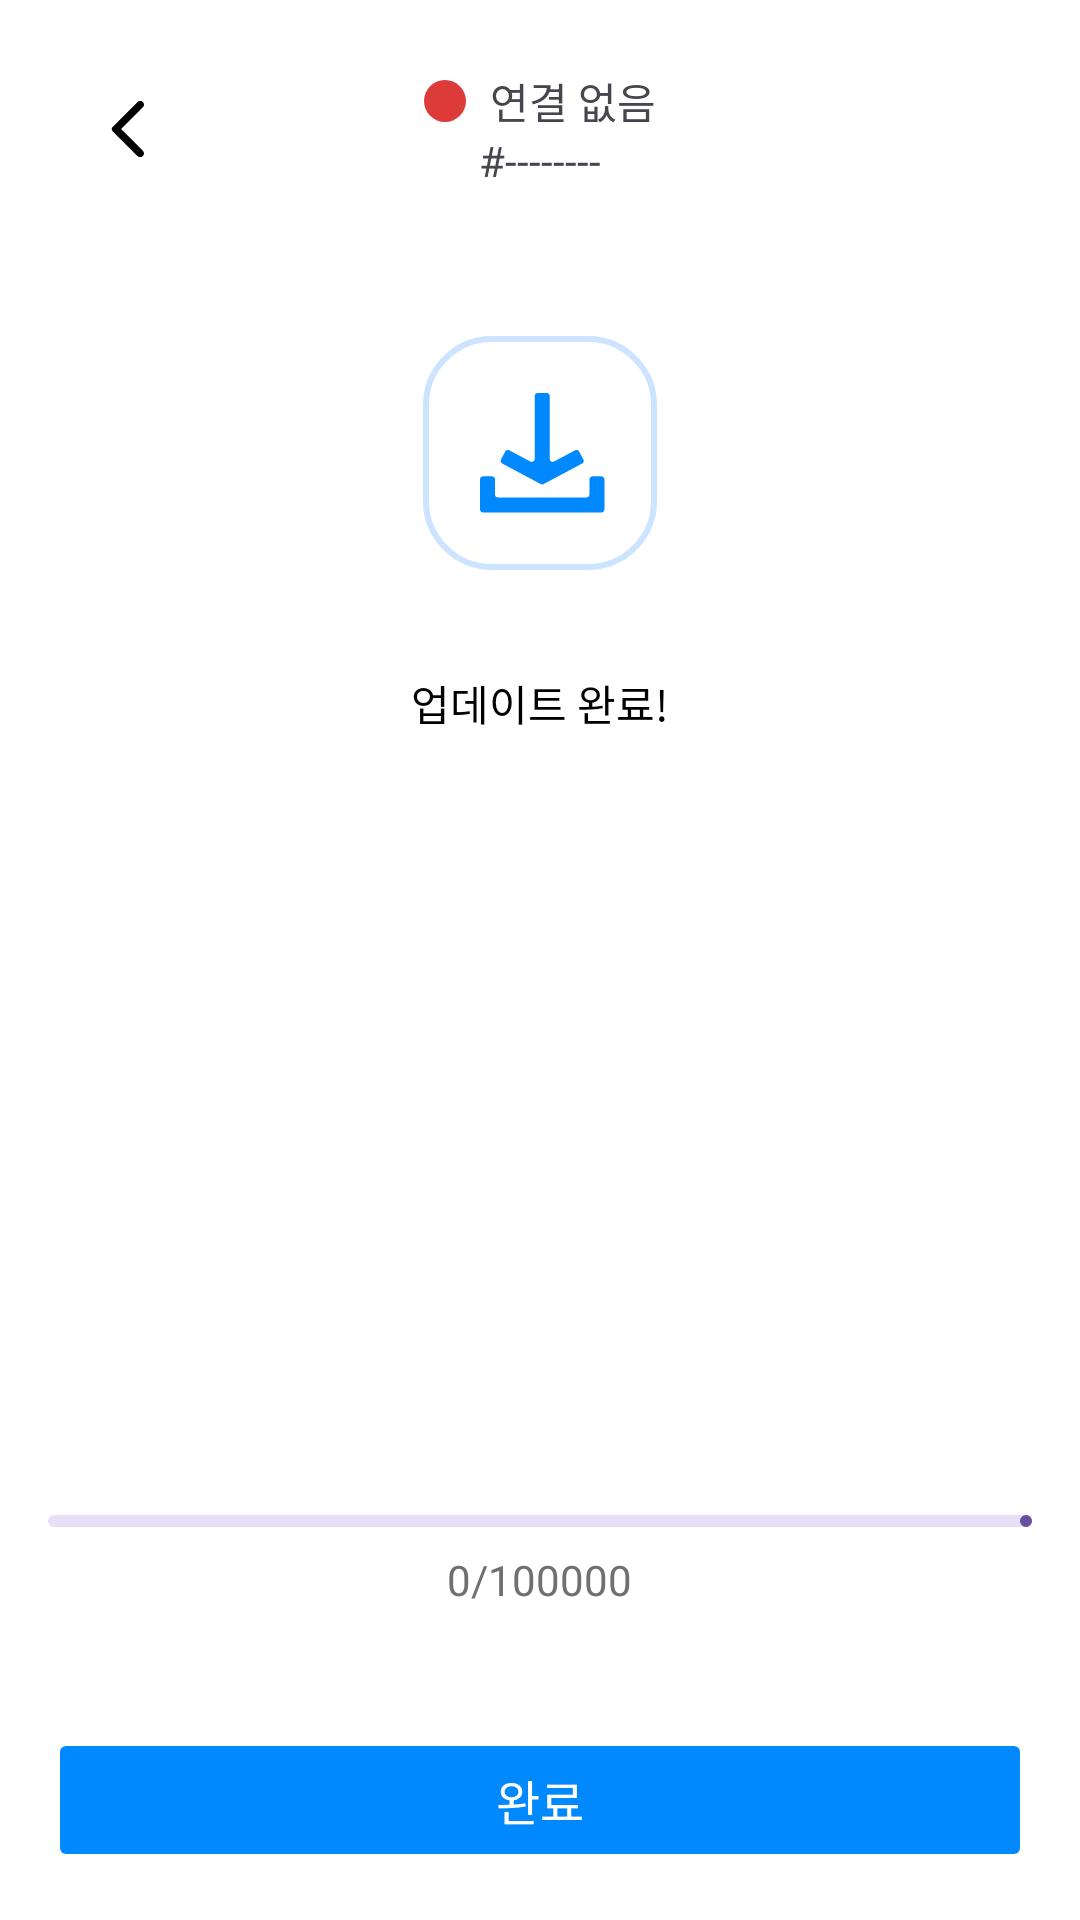

Screen size 1080px x 1920px. Icon name, then its center in pixels as [x,y]:
download: [540,453]
